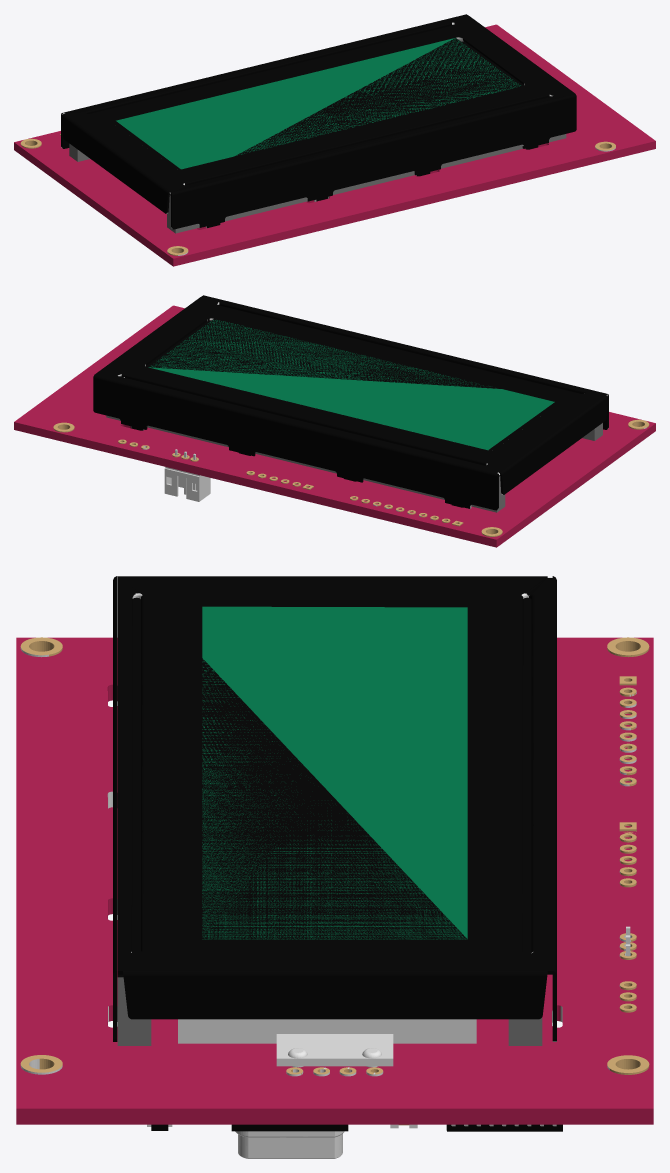
3 renders of one model, top to bottom at view 1: azimuth 30°, elevation 25°; view 2: azimuth 150°, elevation 25°; view 3: azimuth 270°, elevation 25°, orthographic. The views are drawn at different scales.
Parts seen in each view (by area): view 1: _568; view 2: _568; view 3: _568.
Boxes of the visible parts, left/top/right/bottom form: _568: left=14, top=14, right=655, bottom=266; _568: left=14, top=295, right=655, bottom=547; _568: left=16, top=576, right=653, bottom=1158.
Bounding box in the file's own units: 1.05 × 0.6 × 0.1652.
